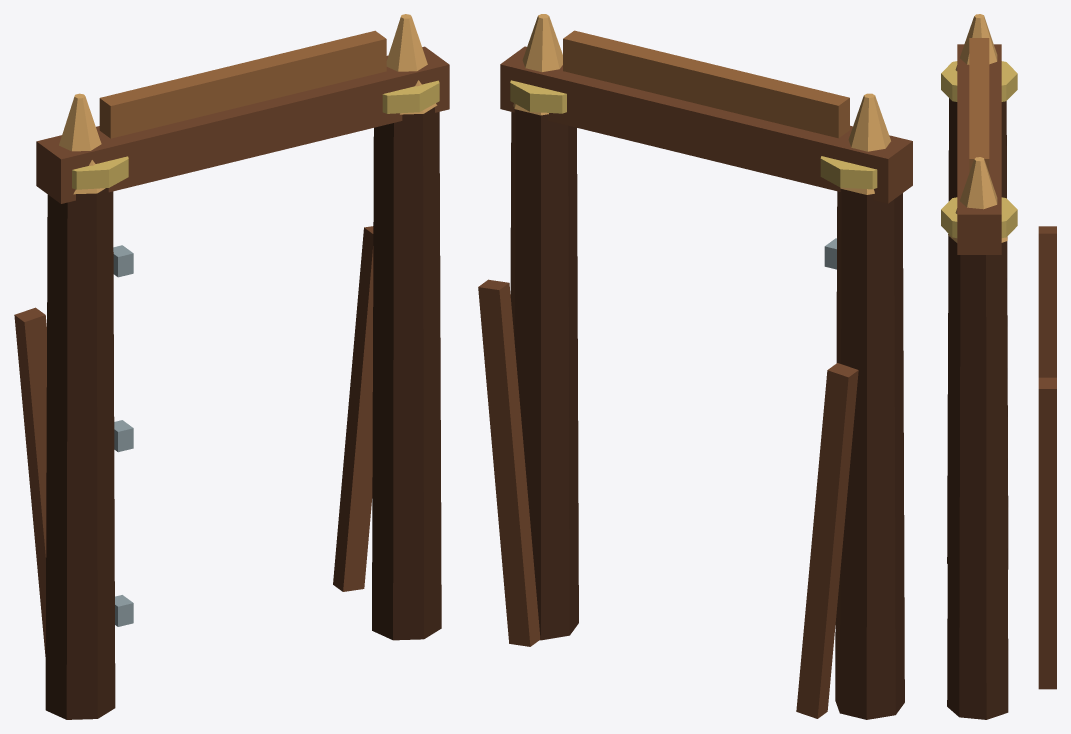
Rendered from palisade_gate_frame.glb.
3 views of the same model, side by side, from view 1: azimuth 30°, elevation 25°; view 2: azimuth 150°, elevation 25°; view 3: azimuth 270°, elevation 25° (orthographic). The views are drawn at different scales.
Visible parts, largest first — view 1: Gate_Post_0_Shaft, Gate_Post_1_Shaft, Lintel.001, Head_Board, Gate_Prop_1, Gate_Prop_0, Gate_Post_0_Point, Gate_Post_1_Point, Lintel_Lash_1, Lintel_Lash_0; view 2: Gate_Post_0_Shaft, Gate_Post_1_Shaft, Lintel.001, Head_Board, Gate_Prop_1, Gate_Prop_0, Gate_Post_0_Point, Gate_Post_1_Point, Lintel_Lash_0, Lintel_Lash_1; view 3: Gate_Post_1_Shaft, Gate_Prop_1, Lintel.001, Gate_Prop_0, Head_Board, Gate_Post_0_Shaft, Gate_Post_1_Point, Lintel_Lash_1, Lintel_Lash_0, Gate_Post_0_Point.
Part boxes in pixels (x1,y1,x2,y2): Gate_Post_0_Shaft: (45,188,115,719); Gate_Post_1_Shaft: (372,107,441,640); Lintel.001: (36,46,449,203); Head_Board: (99,30,386,138); Gate_Prop_1: (333,226,373,591); Gate_Prop_0: (14,307,46,656); Gate_Post_0_Point: (59,93,104,194); Gate_Post_1_Point: (386,14,437,114); Lintel_Lash_1: (382,80,439,113); Lintel_Lash_0: (72,156,128,189); Gate_Post_0_Shaft: (835,189,904,719); Gate_Post_1_Shaft: (510,109,578,640); Lintel.001: (500,46,912,203); Head_Board: (563,30,849,138); Gate_Prop_1: (478,279,540,646); Gate_Prop_0: (796,363,858,718); Gate_Post_0_Point: (840,93,890,194); Gate_Post_1_Point: (513,14,562,115); Lintel_Lash_0: (820,156,877,189); Lintel_Lash_1: (510,80,566,113); Gate_Post_1_Shaft: (947,236,1008,719); Gate_Prop_1: (1038,377,1056,689); Lintel.001: (957,44,1001,254); Gate_Prop_0: (1038,226,1056,377); Head_Board: (969,38,989,173); Gate_Post_0_Shaft: (947,98,1008,569); Gate_Post_1_Point: (948,157,1007,242); Lintel_Lash_1: (941,197,1017,237); Lintel_Lash_0: (941,61,1017,101); Gate_Post_0_Point: (955,14,997,70).
Size of the model in its own units: 2 by 3 by 0.575.
